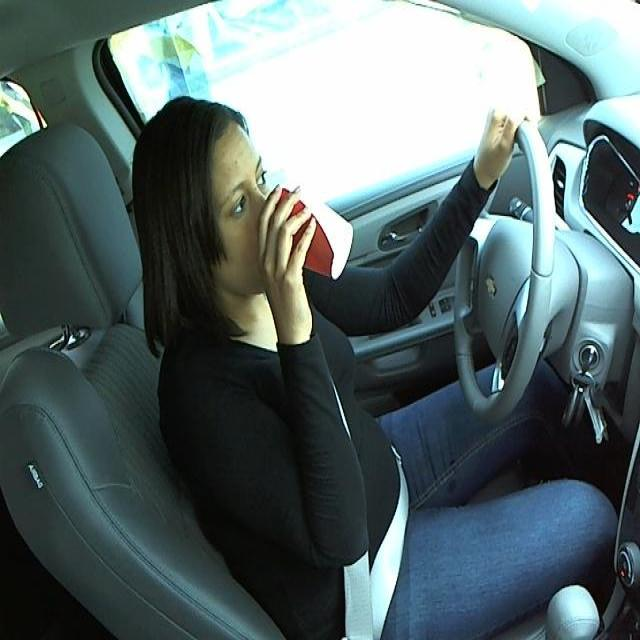Seatbelt: (264, 182, 353, 282)
